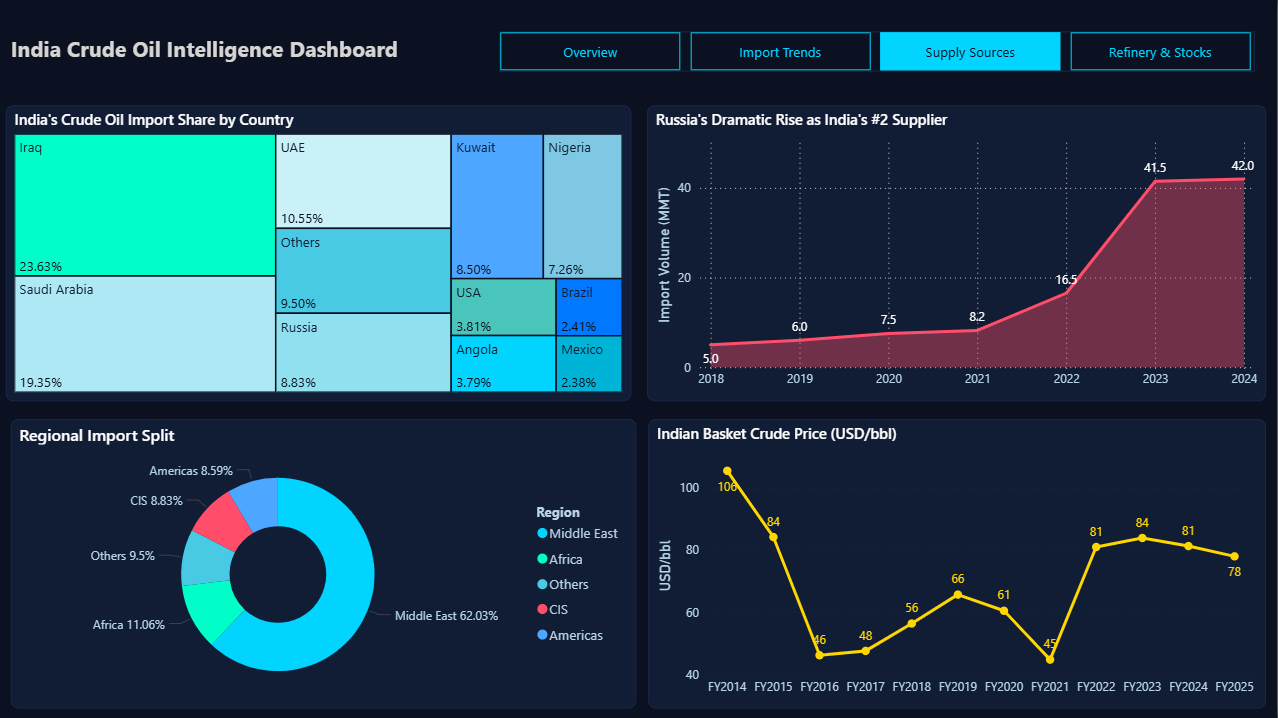

The page's visual inventory and layout, read from the dashboard file:
{"tool":"powerbi","page":{"name":"Supply Sources","canvas":[1280,720],"ordinal":2},"visuals":[{"type":"treemap","title":"India''s Crude Oil Import Share by Country","fields":{"Group":["CrudeCountry.Country"],"Values":["Sum(CrudeCountry.Import_Volume_MMT)"]},"box":[9,106.4,625.6,296.2],"z":0},{"type":"areaChart","title":"Russia''s Dramatic Rise as India''s #2 Supplier","fields":{"Category":["CrudeCountry.FY_Number"],"Y":["Sum(CrudeCountry.Import_Volume_MMT)"]},"box":[650,106.4,619.2,296.2],"z":1000},{"type":"donutChart","title":"Regional Import Split","fields":{"Category":["CrudeCountry.Region"],"Y":["Sum(CrudeCountry.Import_Volume_MMT)"]},"box":[14.1,420.5,625.6,289.7],"z":2000},{"type":"lineChart","title":"Indian Basket Crude Price (USD/bbl)","fields":{"Category":["CrudeYearlyExtended.Fiscal_Year"],"Y":["Sum(CrudeYearlyExtended.Avg_Price_USD_bbl)"]},"box":[651.3,420.5,617.9,289.7],"z":3000},{"type":"textbox","box":[9,12.8,1261.5,92.3],"z":3001},{"type":"pageNavigator","box":[503,33,755,40],"z":3002}]}

Visuals, with their boxes in screenshot pixels (x1, y1, x2, y2), scaled from the page's 1280x720 canvas onto the 1278x718 screenshot:
"India''s Crude Oil Import Share by Country" treemap: region(9, 106, 634, 401)
"Russia''s Dramatic Rise as India''s #2 Supplier" areaChart: region(649, 106, 1267, 401)
"Regional Import Split" donutChart: region(14, 419, 639, 708)
"Indian Basket Crude Price (USD/bbl)" lineChart: region(650, 419, 1267, 708)
textbox: region(9, 13, 1269, 105)
pageNavigator: region(502, 33, 1256, 73)
